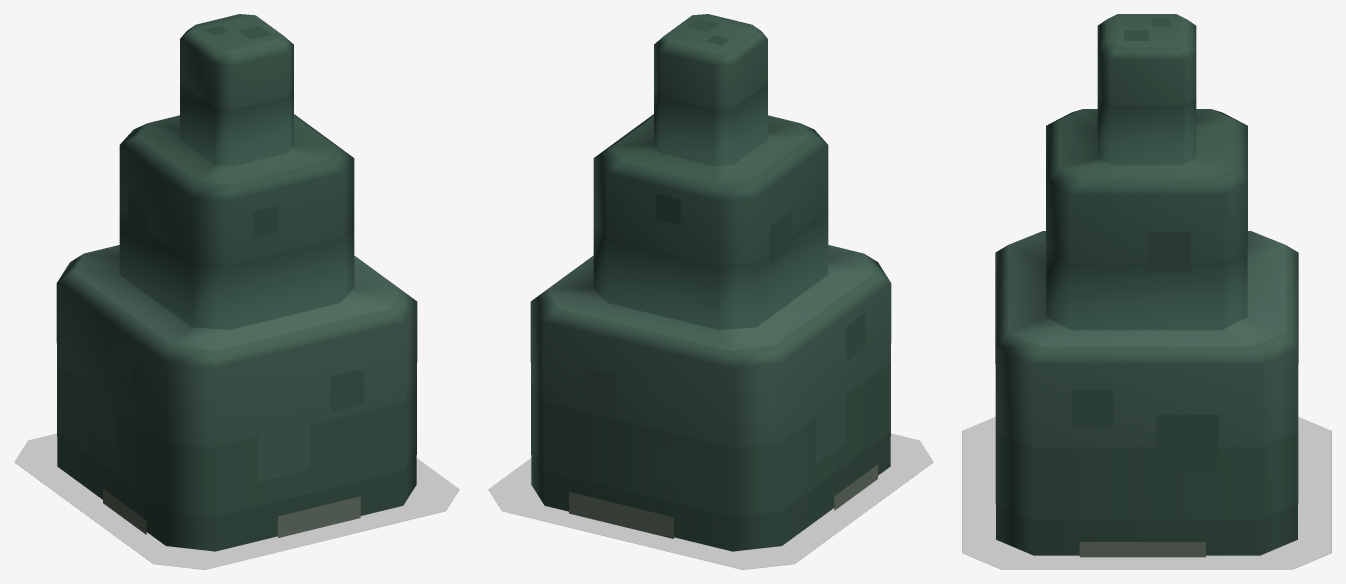
Rendered from B_cave2_rock01.fbx.
3 renders of one model, left to right at view 1: azimuth 30°, elevation 25°; view 2: azimuth 150°, elevation 25°; view 3: azimuth 270°, elevation 25°, orthographic. The views are drawn at different scales.
Visible parts, largest first — view 1: model 1, model; view 2: model 1, model; view 3: model 1, model.
Boxes of the visible parts, box(x1,y1,x2,y2) form: model 1: box(15, 14, 458, 569); model: box(14, 433, 459, 569); model 1: box(489, 14, 932, 569); model: box(488, 433, 933, 569); model 1: box(962, 14, 1331, 569); model: box(962, 417, 1331, 569).
Size of the model in its own units: 3.65 by 5.07 by 3.65.
